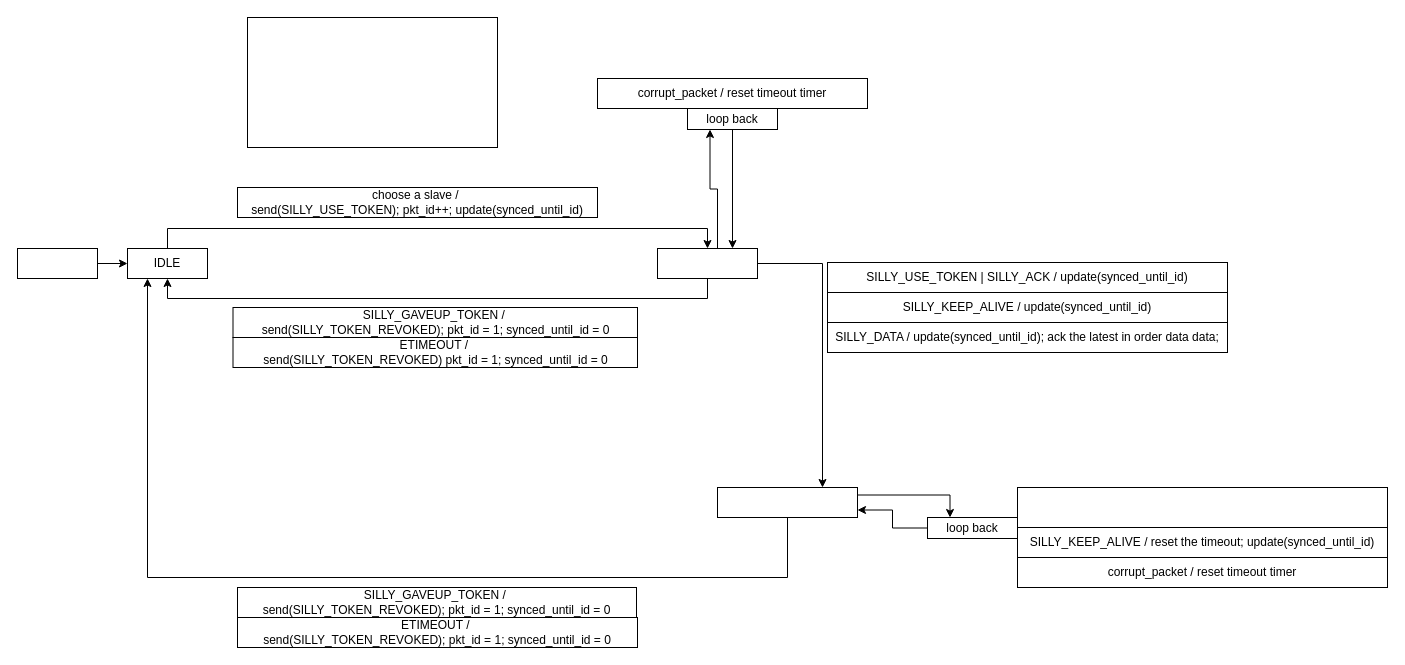
Image size: 1405x665. Some labels were removed from this diagram. Each missing label, with the centre of its shape:
"master" goes at (372,82).
"SILLY_DATA / update(synced_until_id); ack the data;" goes at (1202,507).
"start" goes at (57,263).
"TALKING_TO_SLAVE" goes at (787,502).
"TOKEN_SENT" goes at (707,263).
